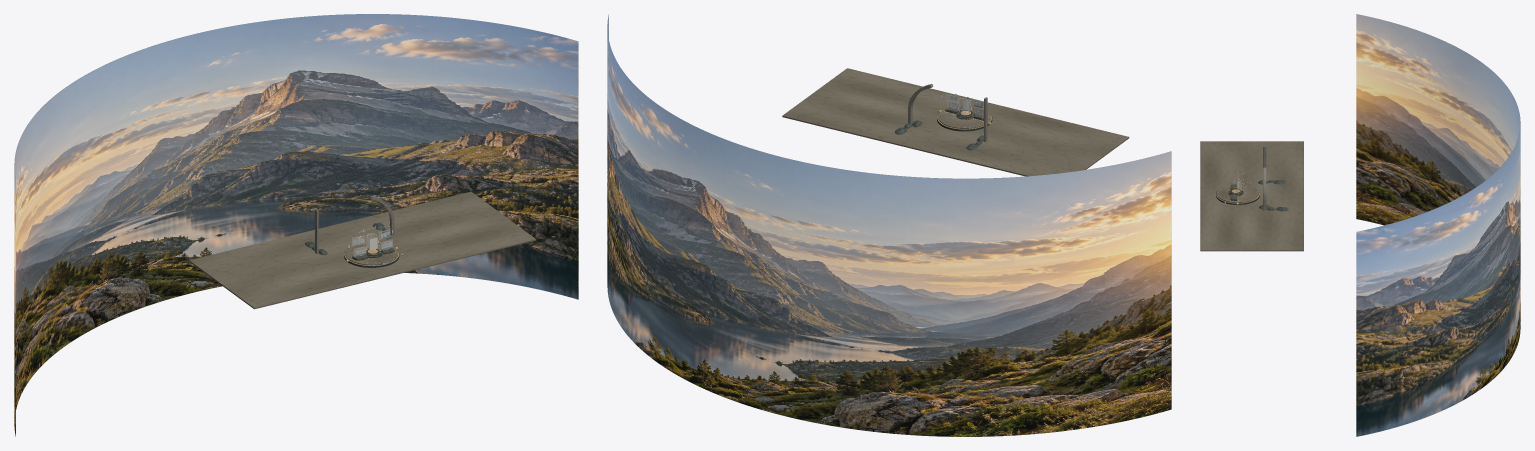
File: C02_bilateral_materialB_FULL_OPTIONAL.glb
The picture shows the model from 3 angles, left to right: view 1: azimuth 30°, elevation 25°; view 2: azimuth 150°, elevation 25°; view 3: azimuth 270°, elevation 25°; orthographic projection. The views are drawn at different scales.
Visible parts, largest first — view 1: C02_SPACE_generated_fictional_far_vista, C02_SPACE_limestone_ground, C02_STAGE_upper_limestone_disc; view 2: C02_SPACE_generated_fictional_far_vista, C02_SPACE_limestone_ground, C02_STAGE_upper_limestone_disc; view 3: C02_SPACE_generated_fictional_far_vista, C02_SPACE_limestone_ground, C02_STAGE_upper_limestone_disc.
Boxes of the visible parts, bbox=[...] form: C02_SPACE_generated_fictional_far_vista: bbox=[14, 14, 578, 436]; C02_SPACE_limestone_ground: bbox=[189, 191, 536, 309]; C02_STAGE_upper_limestone_disc: bbox=[345, 242, 398, 265]; C02_SPACE_generated_fictional_far_vista: bbox=[607, 14, 1171, 436]; C02_SPACE_limestone_ground: bbox=[782, 68, 1129, 176]; C02_STAGE_upper_limestone_disc: bbox=[938, 105, 991, 128]; C02_SPACE_generated_fictional_far_vista: bbox=[1356, 14, 1520, 436]; C02_SPACE_limestone_ground: bbox=[1200, 141, 1303, 251]; C02_STAGE_upper_limestone_disc: bbox=[1216, 184, 1258, 202].
Size of the model in its own units: 79.81 by 35 by 49.53.
Materials: 26 (6 with a texture image).
